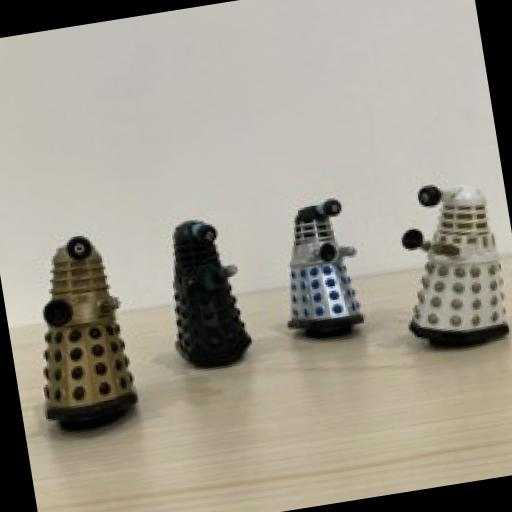dalek: (20, 221, 148, 444), (379, 164, 512, 362), (264, 190, 380, 346), (157, 208, 256, 375)
